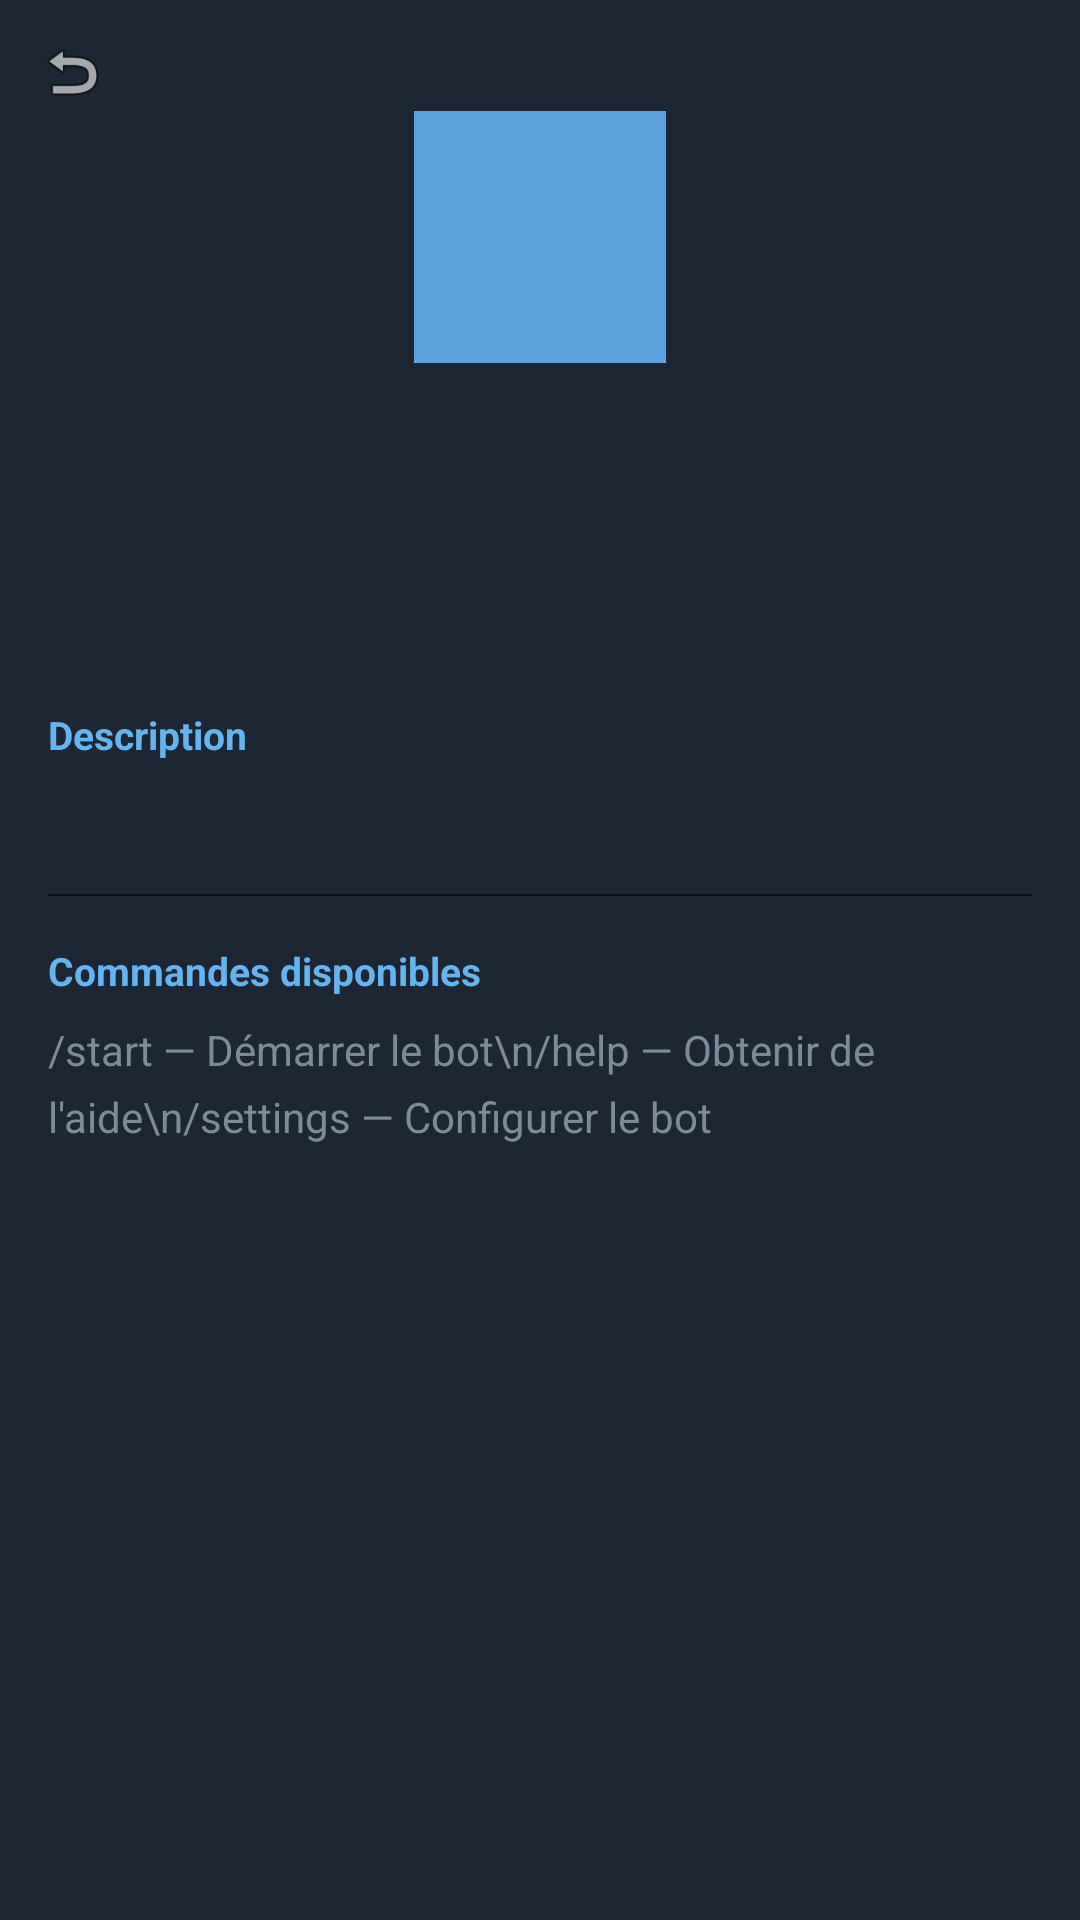

Named icons in this screenshot (1080px×1920px) and their bounding boxes, [x1, y1, x2, y2]:
Retour: [49, 51, 97, 94]
